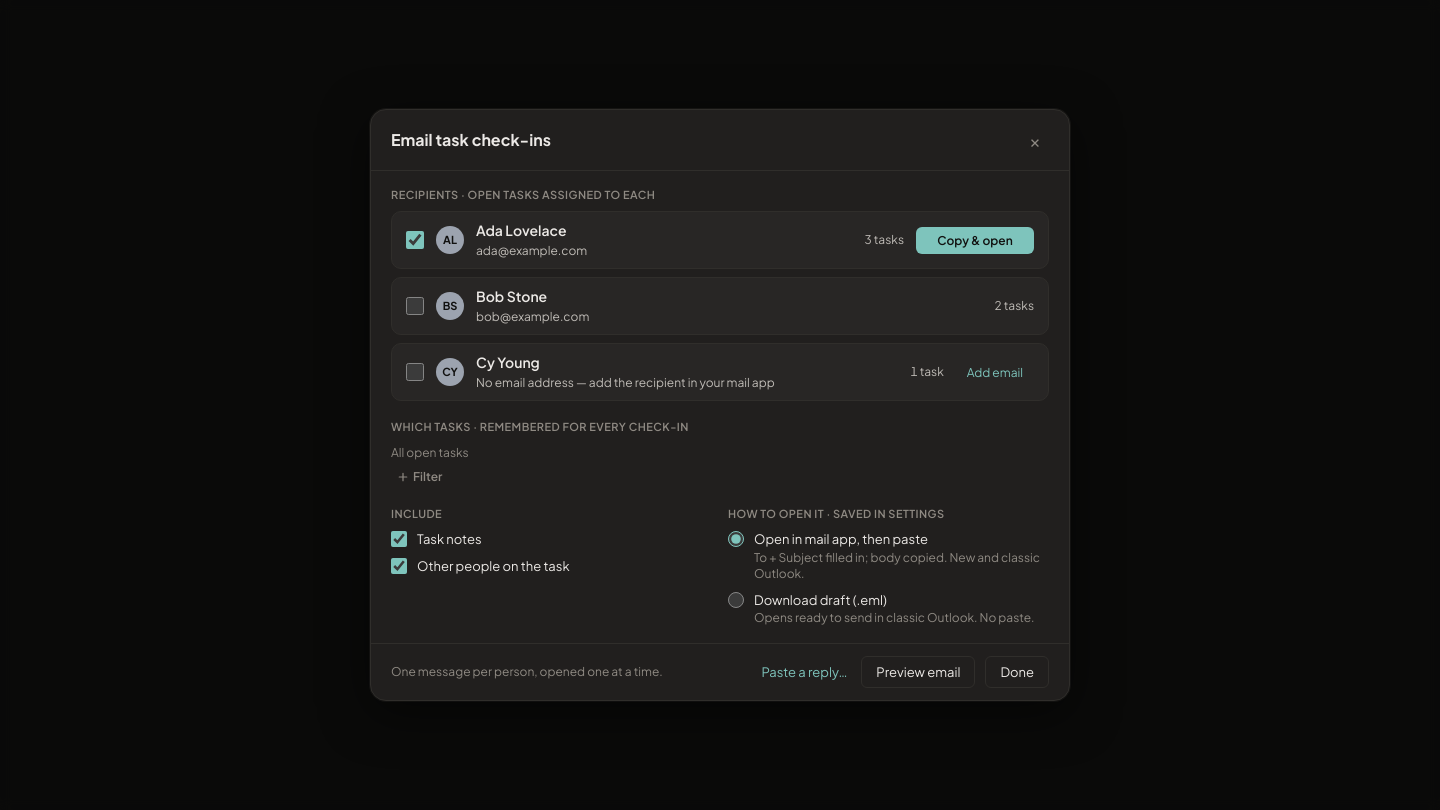
Test: CheckinDialog — Which tasks › Esc in a filter picker closes the picker only, not the dialog
Click the button "Filter".
click(420, 477)  # box [391,466,448,488]
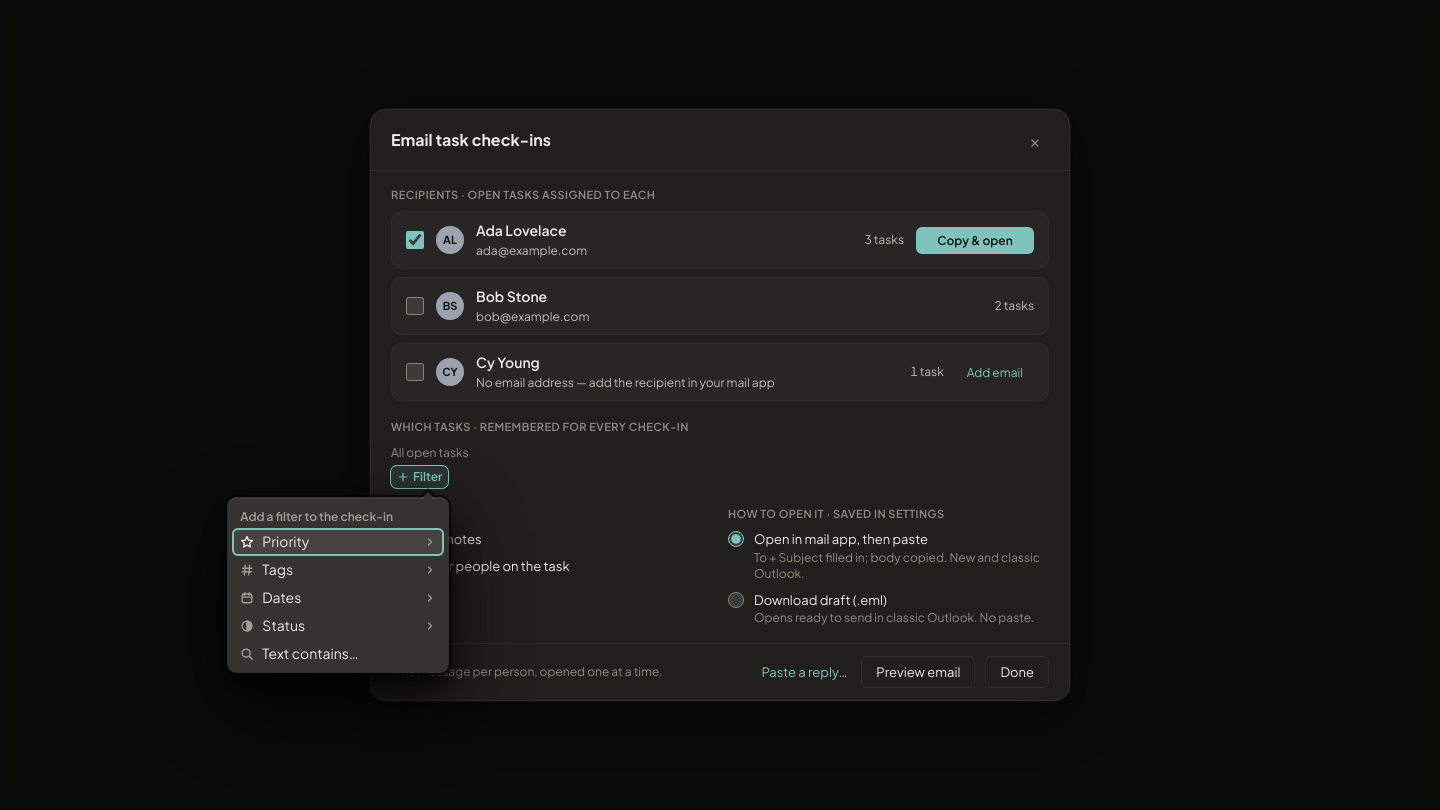
Click the menu item "Priority".
click(338, 542)  # box [232,528,444,556]
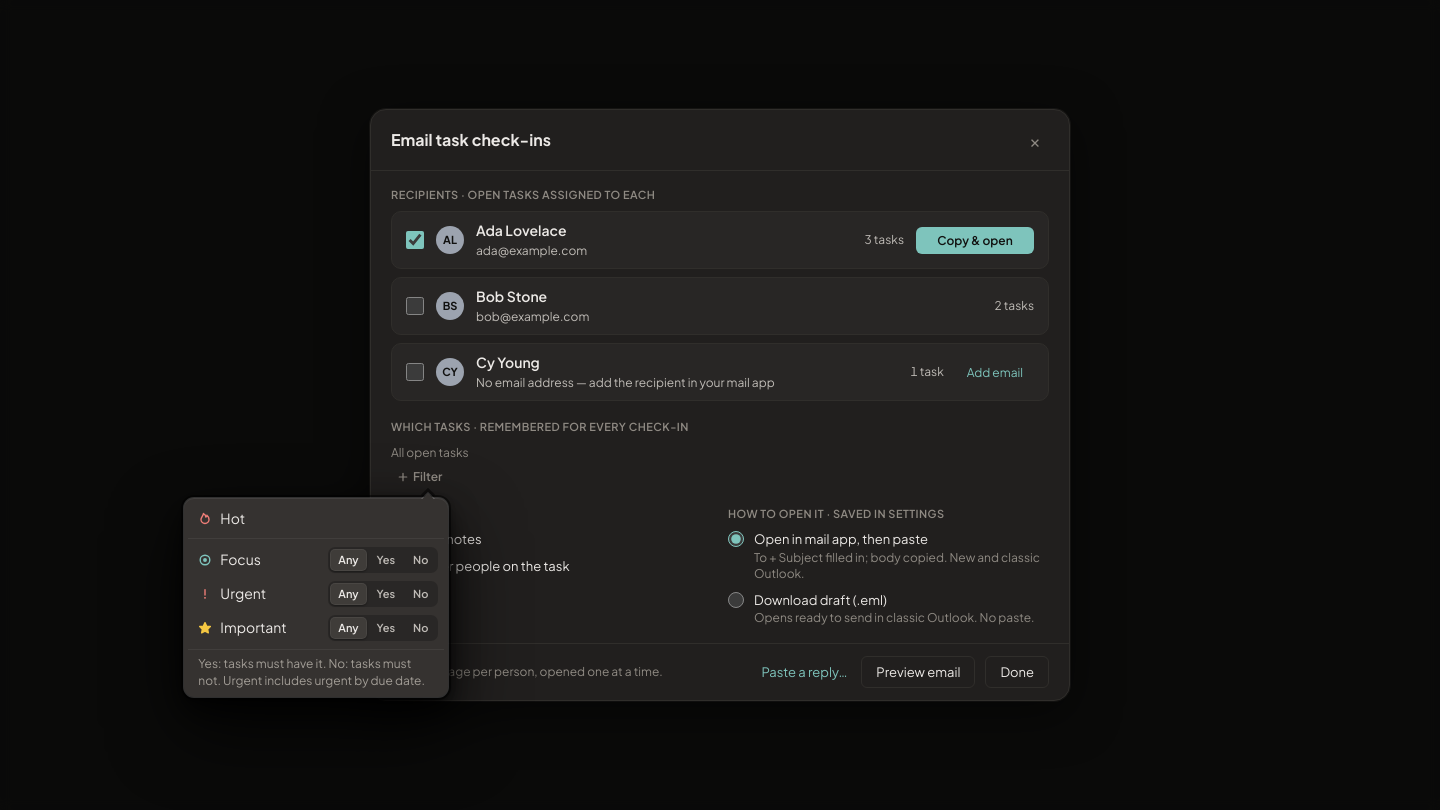
Press Escape in the checkbox labelled "Hot", box [188,502,444,534]
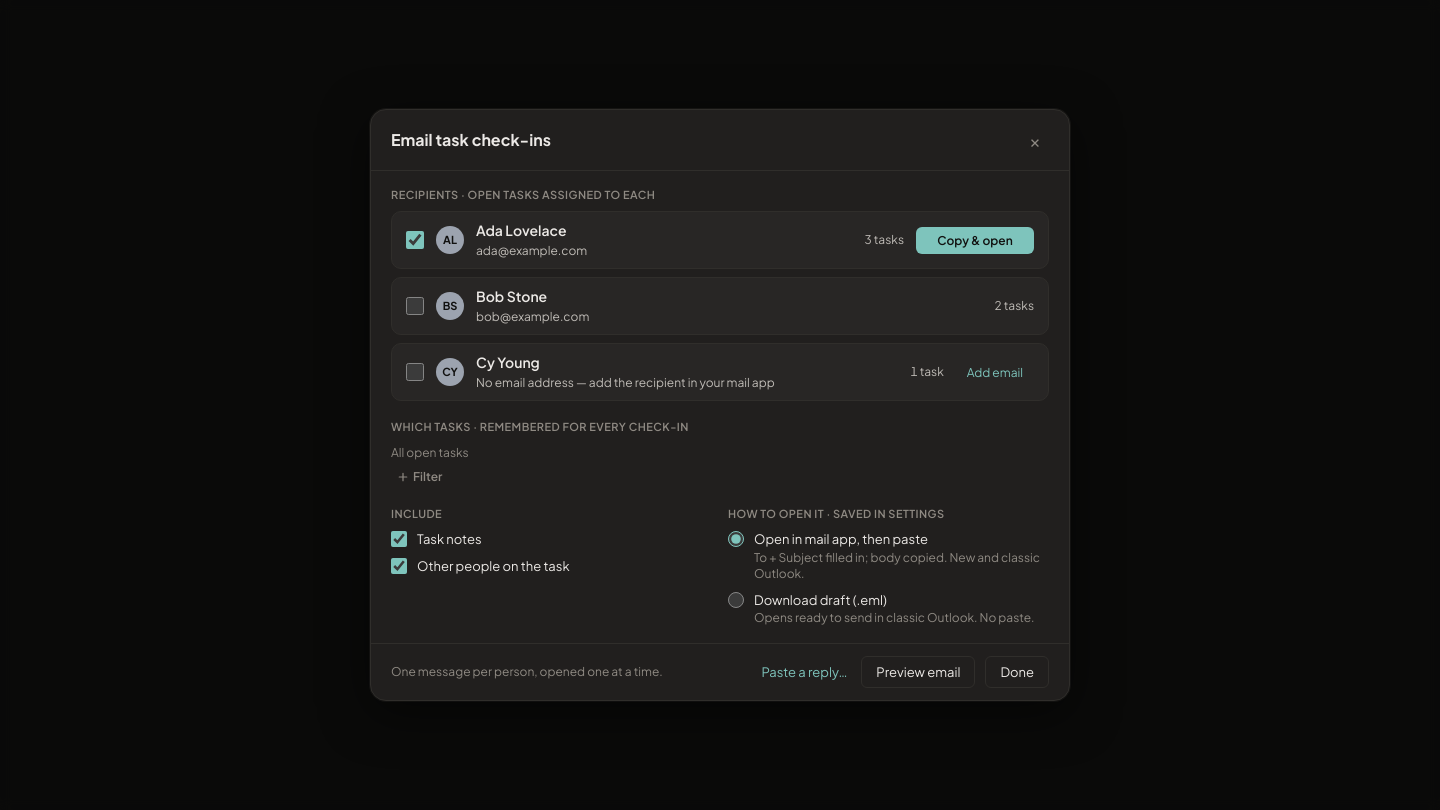
Expected: the dialog "Email task check-ins" is shown, [370,109,1070,701]
Expected: the checkbox labelled "Hot" is gone
